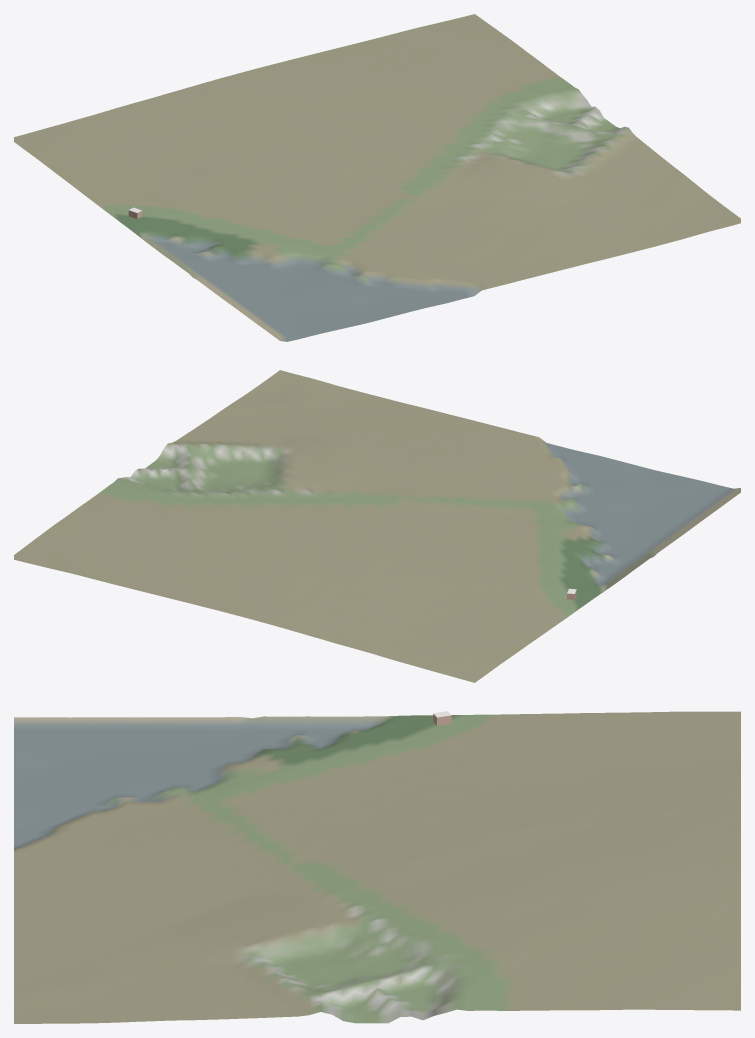
3 renders of one model, top to bottom at view 1: azimuth 30°, elevation 25°; view 2: azimuth 150°, elevation 25°; view 3: azimuth 270°, elevation 25°, orthographic. The views are drawn at different scales.
Parts seen in each view (by area): view 1: prim0; view 2: prim0; view 3: prim0.
Part boxes in pixels (bbox=[...]): prim0: bbox=[14, 14, 740, 341]; prim0: bbox=[14, 370, 740, 682]; prim0: bbox=[14, 711, 740, 1023].
Size of the model in its own units: 512 by 25.37 by 512.
